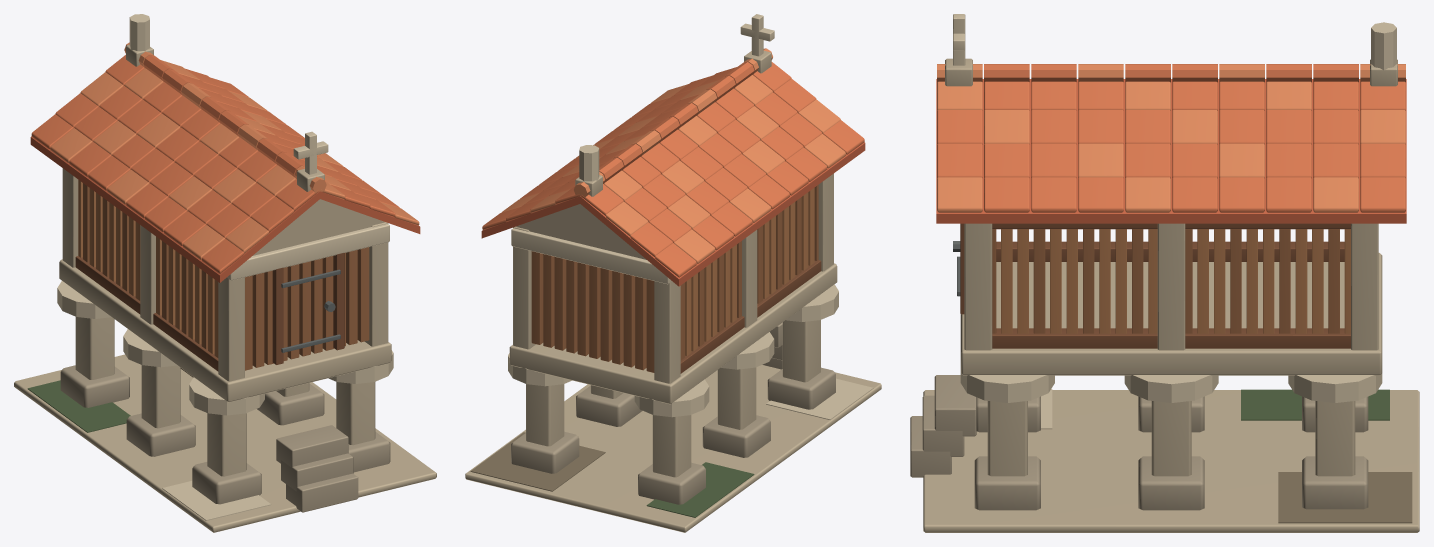
File: horreo.glb
3 views of the same model, side by side, from view 1: azimuth 30°, elevation 25°; view 2: azimuth 150°, elevation 25°; view 3: azimuth 270°, elevation 25° (orthographic). The views are drawn at different scales.
Parts seen in each view (by area): view 1: horreo; view 2: horreo; view 3: horreo.
Boxes of the visible parts, <box> form: horreo: <box>14,14,436,532</box>; horreo: <box>465,14,881,532</box>; horreo: <box>910,14,1419,532</box>.
Size of the model in its own units: 1.85 by 2.85 by 2.92.
